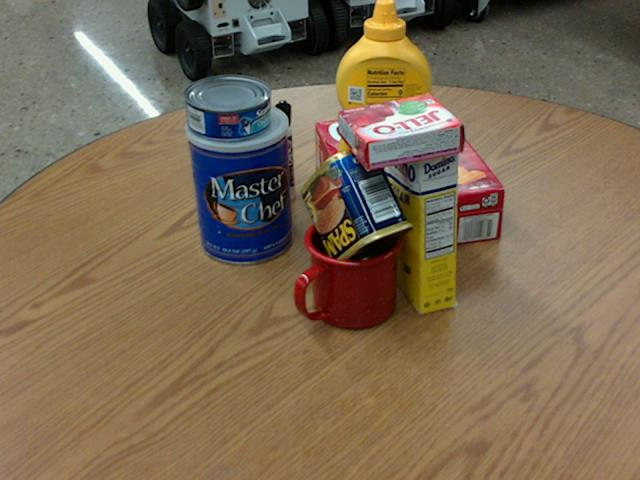cracker_box: (313, 107, 502, 257)
gelatin_box: (338, 93, 463, 169)
large_marker: (274, 102, 294, 201)
master_chef_can: (185, 99, 294, 263)
mug: (290, 212, 401, 330)
mustard_bottle: (335, 0, 431, 191)
potted_meat_can: (299, 146, 413, 271)
sugar_box: (380, 106, 456, 315)
tomato_soup_can: (357, 41, 417, 147)
tuna_fish_can: (182, 75, 270, 139)
